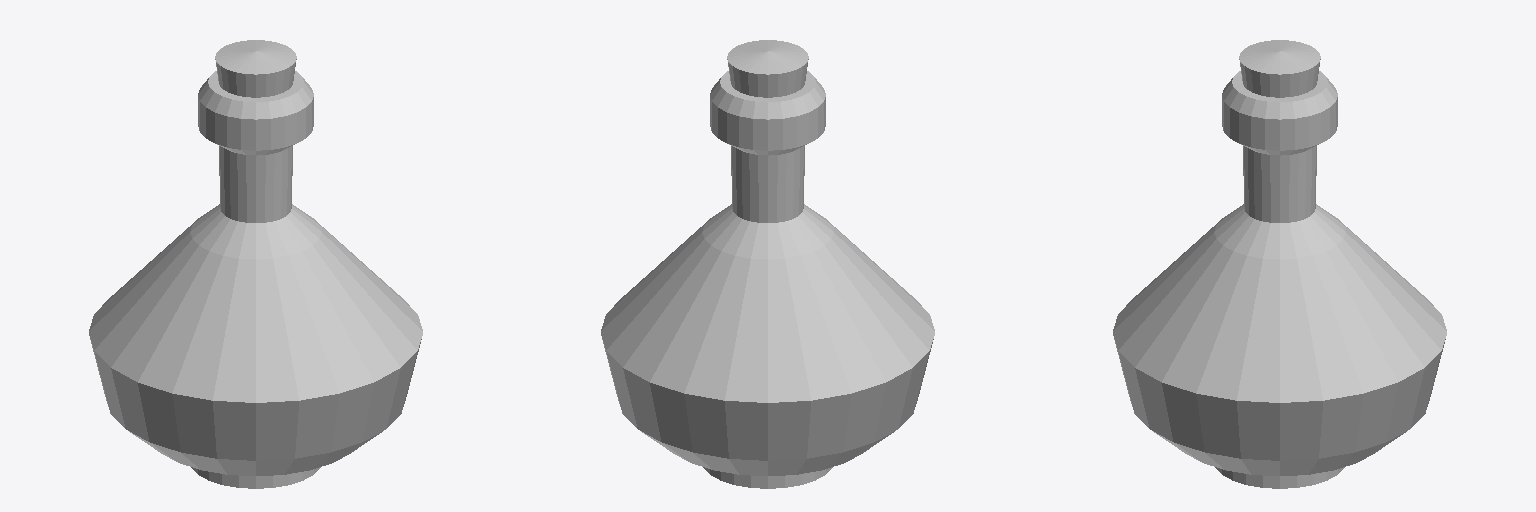
File: potionMedium_blue.obj
3 views of the same model, side by side, from view 1: azimuth 30°, elevation 25°; view 2: azimuth 150°, elevation 25°; view 3: azimuth 270°, elevation 25° (orthographic).
Visible parts, largest first — view 1: potionMedium_blue_Cylinder.172; view 2: potionMedium_blue_Cylinder.172; view 3: potionMedium_blue_Cylinder.172.
Boxes of the visible parts, x1,y1,x2,y2 form: potionMedium_blue_Cylinder.172: [89, 40, 422, 488]; potionMedium_blue_Cylinder.172: [601, 40, 934, 488]; potionMedium_blue_Cylinder.172: [1113, 40, 1446, 488].
Bounding box in the file's own units: 0.7978 × 1.08 × 0.7978.